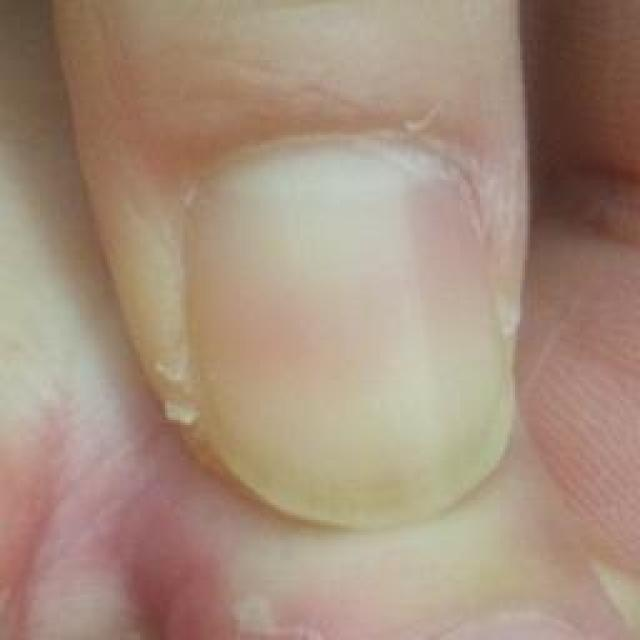Nail: (189, 134, 522, 530)
